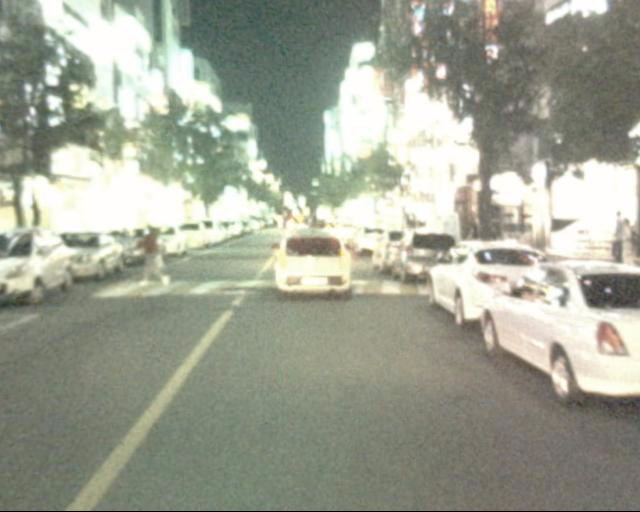person: (137, 217, 170, 297), (603, 206, 635, 277)
